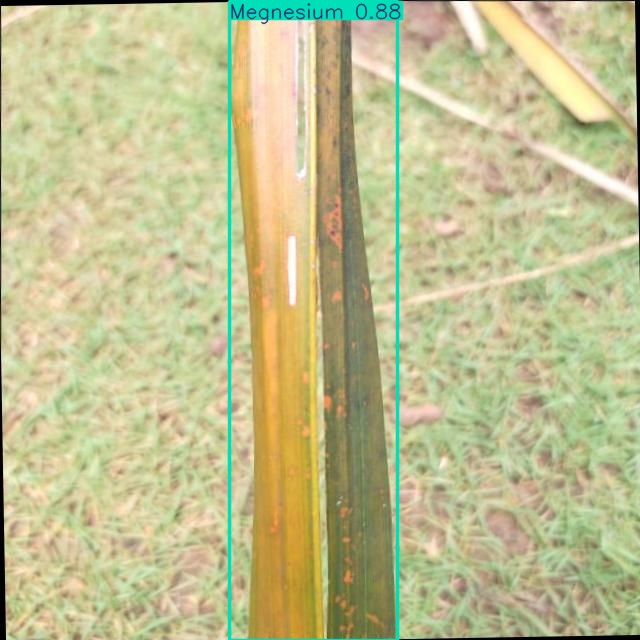Megnesium: (229, 1, 398, 640)
